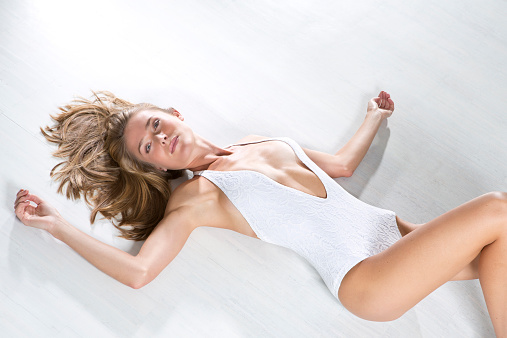deitado: (0, 62, 491, 306)
